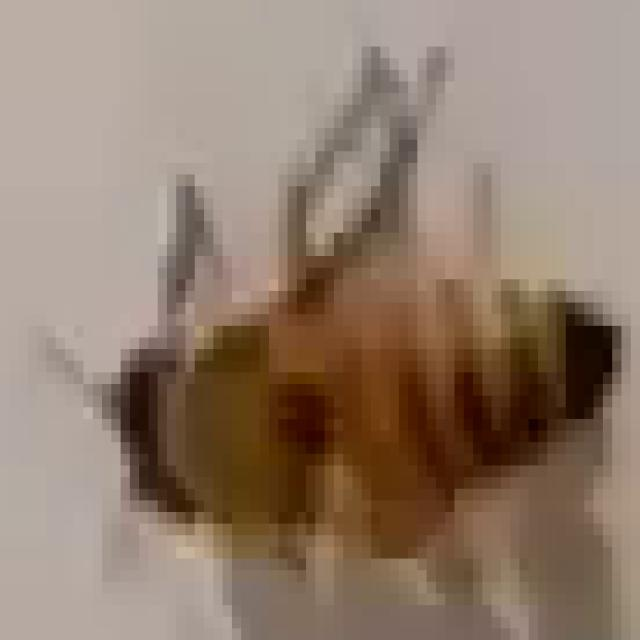honeybee: (82, 165, 626, 554)
